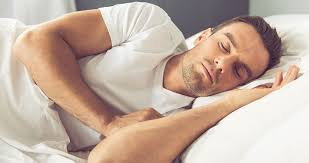sleeping: (1, 4, 303, 163)
